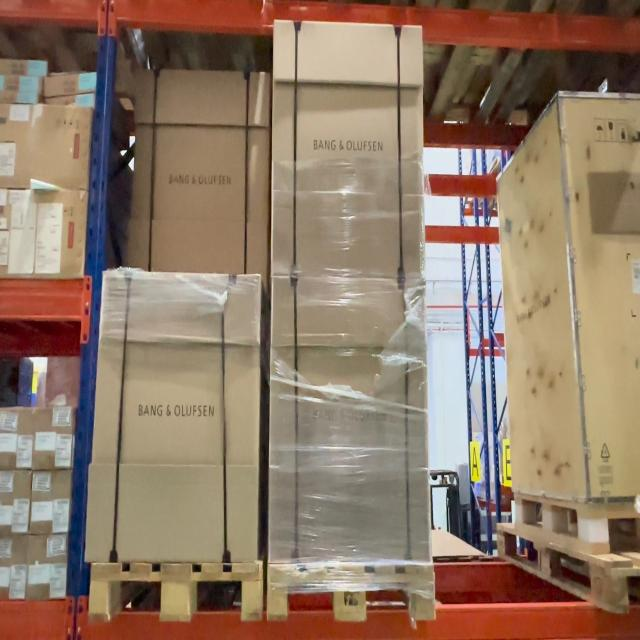box: (275, 281, 429, 557), (107, 281, 257, 552), (276, 26, 420, 271), (139, 70, 268, 272)
